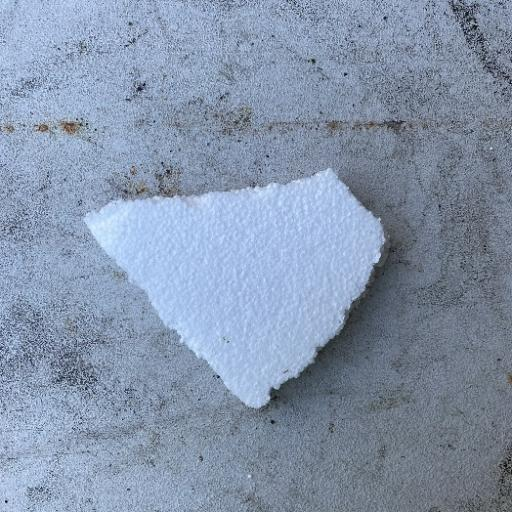Plastic: (81, 165, 390, 411)
